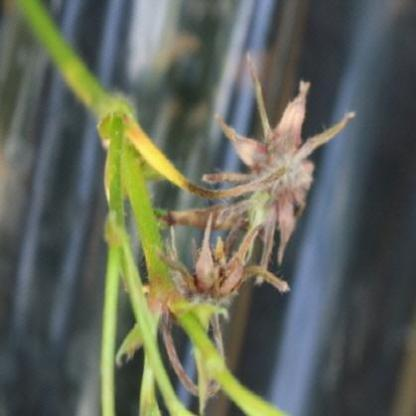Strawberry_Gray_Mold: (203, 54, 355, 284)
